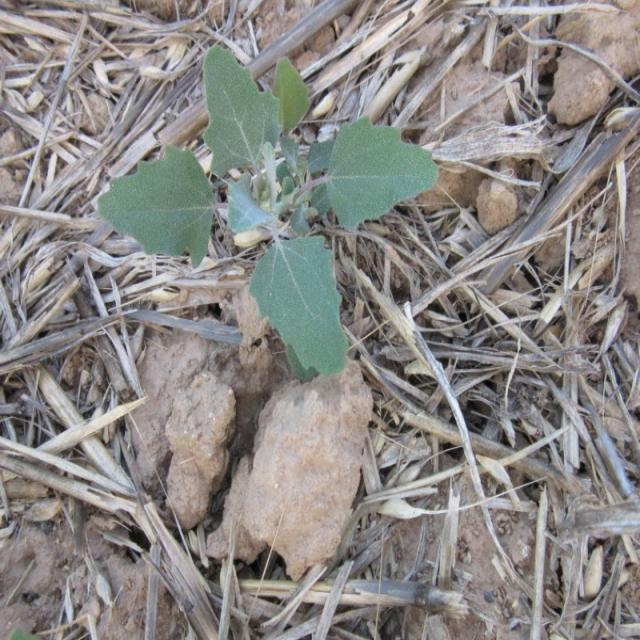ca: (106, 54, 426, 256)
